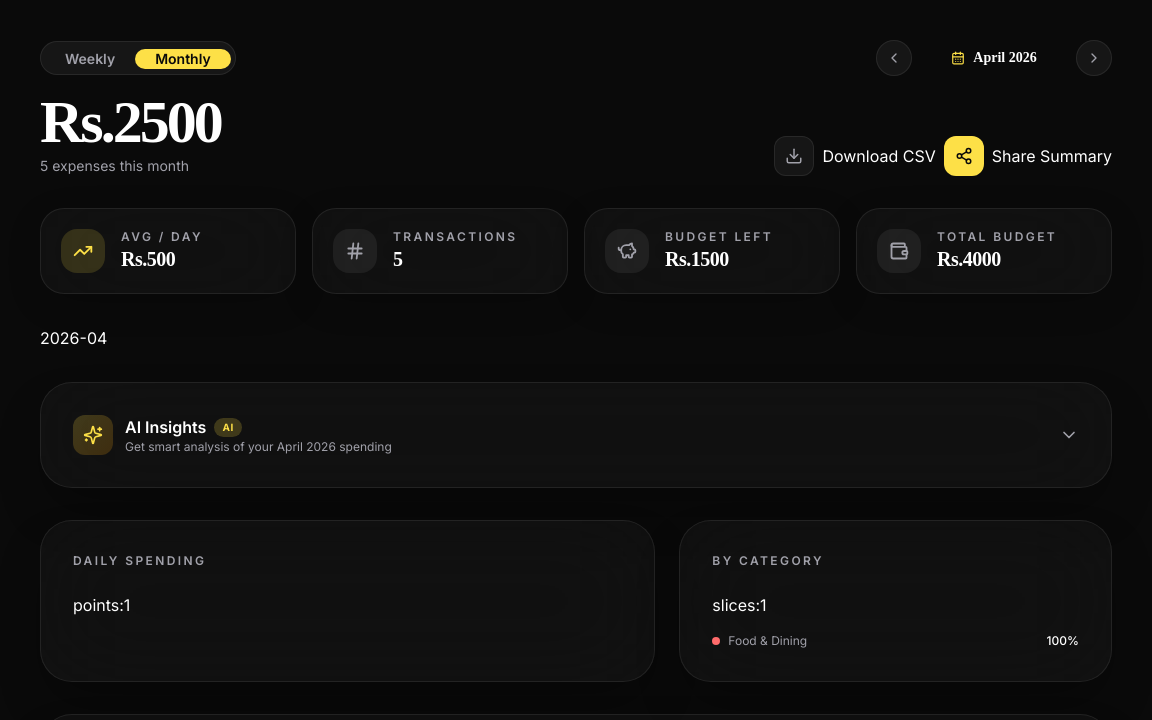
Dashboard page regressions › loads monthly data first and refetches weekly data when the weekly tab is selected
Check: the text "2026-04" is shown, box [40,328,107,348]
Click the button with test id "dashboard-weekly-tab" at (90,59), box [45,49,135,69]
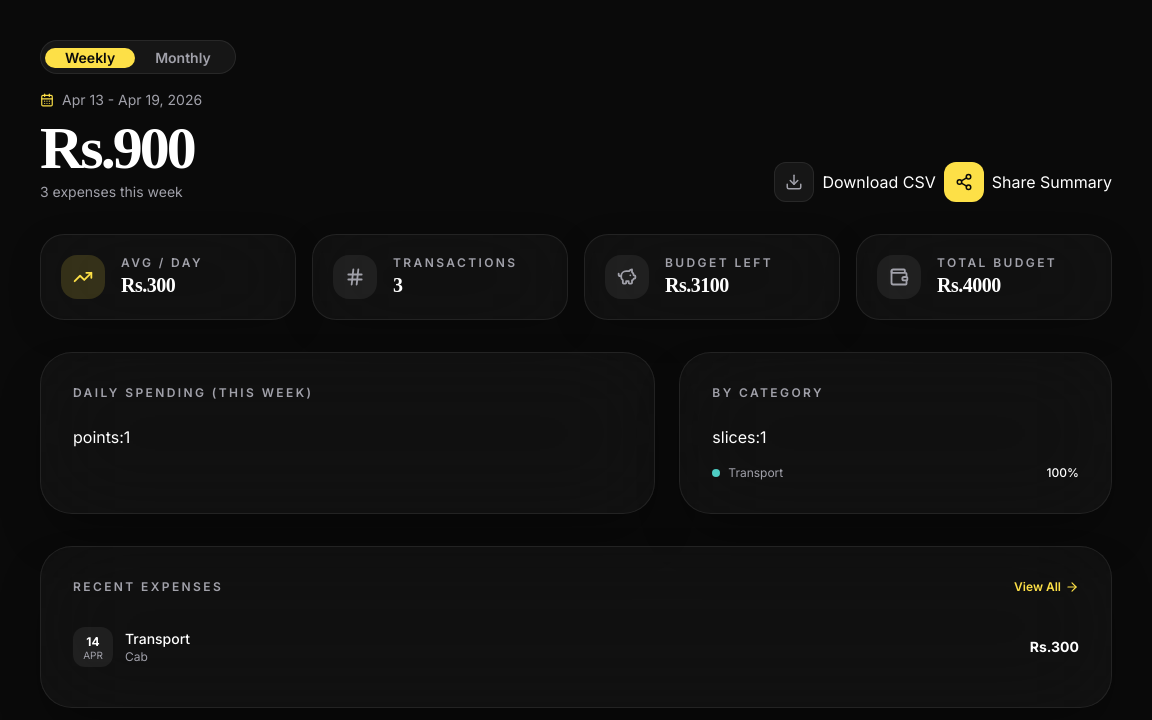
Check: the text "Apr 13 - Apr 19, 2026" is shown, box [40,91,202,108]
Check: the text with test id "budget-alerts" is gone
